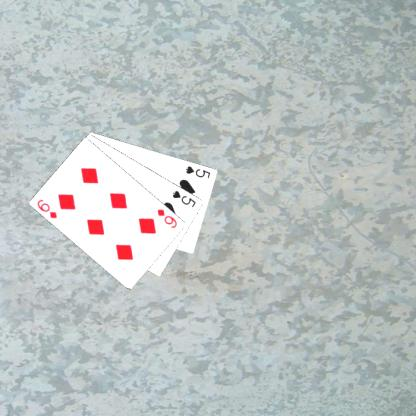5S: (170, 187, 197, 209), (183, 163, 212, 179)
6D: (154, 206, 178, 230), (34, 197, 59, 220)
